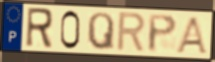0: (59, 9, 82, 50)
A: (174, 16, 210, 56)
P: (147, 14, 179, 54)
Q: (86, 11, 116, 52)
R: (115, 11, 148, 54), (24, 6, 55, 50)
